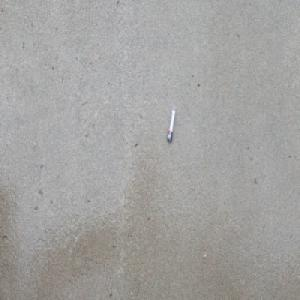Battery: (166, 109, 175, 143)
